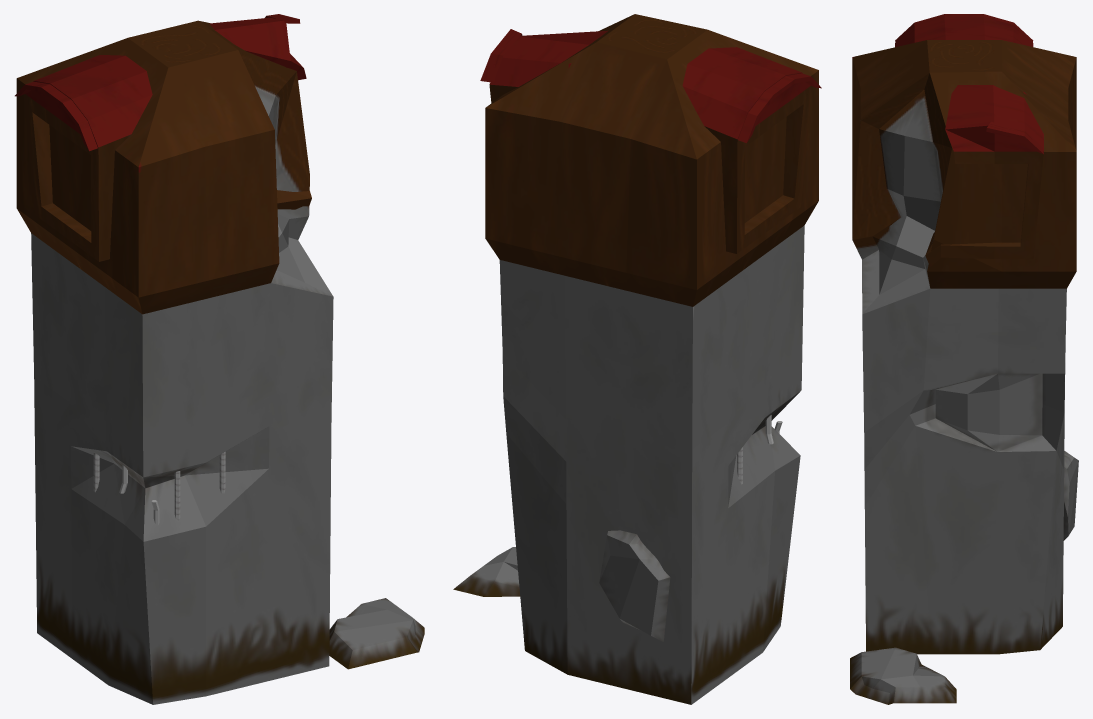
Rendered from TorresRuinas1.fbx.
The picture shows the model from 3 angles, left to right: view 1: azimuth 30°, elevation 25°; view 2: azimuth 150°, elevation 25°; view 3: azimuth 270°, elevation 25°; orthographic projection. The views are drawn at different scales.
Parts seen in each view (by area): view 1: LOD_0; view 2: LOD_0; view 3: LOD_0.
Part boxes in pixels (left/top/right/bottom): LOD_0: left=15, top=14, right=424, bottom=704; LOD_0: left=453, top=14, right=821, bottom=704; LOD_0: left=850, top=14, right=1078, bottom=704.
Size of what is drawn, in the model's own units: 733 by 1274 by 472.
